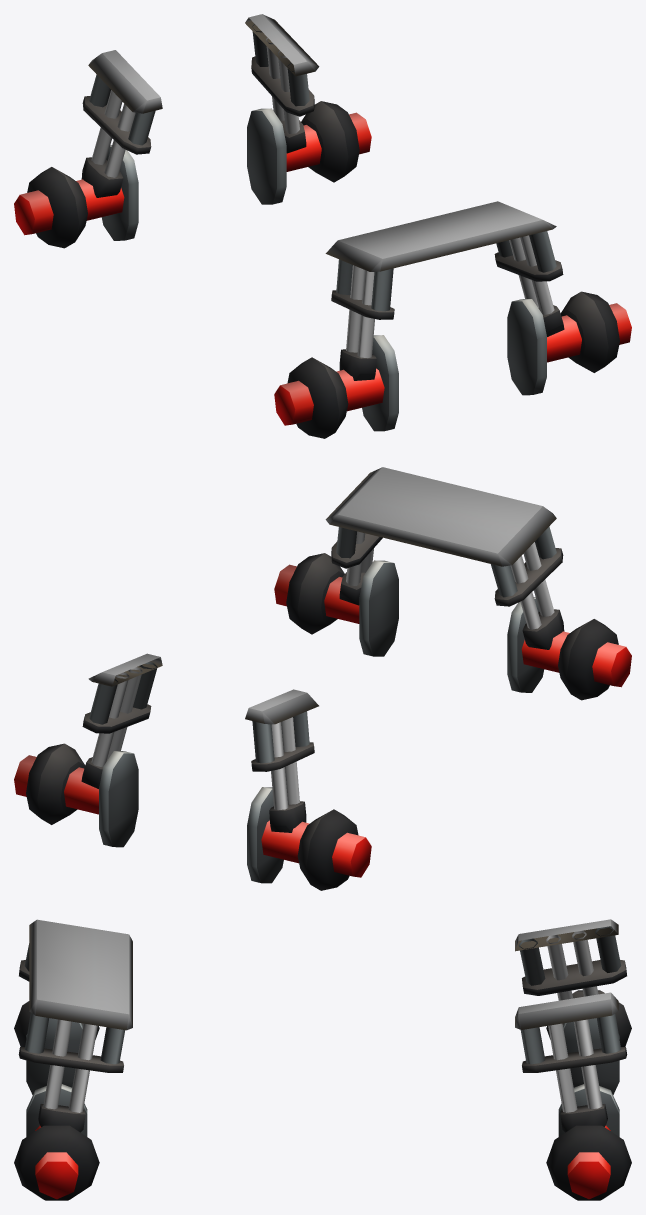
Rendered from RedTruckSuspensions.fbx.
The picture shows the model from 3 angles, top to bottom: view 1: azimuth 30°, elevation 25°; view 2: azimuth 150°, elevation 25°; view 3: azimuth 270°, elevation 25°; orthographic projection. The views are drawn at different scales.
Parts seen in each view (by area): view 1: Monster_Truck_12A_Suspension.F.R, Monster_Truck_12A_Suspension.F.L, Monster_Truck_12A_Suspension.R.R, Monster_Truck_12A_Suspension.R.L; view 2: Monster_Truck_12A_Suspension.F.R, Monster_Truck_12A_Suspension.F.L, Monster_Truck_12A_Suspension.R.R, Monster_Truck_12A_Suspension.R.L; view 3: Monster_Truck_12A_Suspension.F.L, Monster_Truck_12A_Suspension.R.L, Monster_Truck_12A_Suspension.R.R, Monster_Truck_12A_Suspension.F.R.
Boxes of the visible parts, box(x1,y1,x2,y2) form: Monster_Truck_12A_Suspension.F.R: box(274, 221, 466, 438); Monster_Truck_12A_Suspension.F.L: box(418, 201, 631, 395); Monster_Truck_12A_Suspension.R.R: box(14, 50, 162, 248); Monster_Truck_12A_Suspension.R.L: box(245, 14, 371, 204); Monster_Truck_12A_Suspension.F.R: box(416, 486, 631, 700); Monster_Truck_12A_Suspension.F.L: box(274, 467, 462, 656); Monster_Truck_12A_Suspension.R.R: box(245, 689, 371, 890); Monster_Truck_12A_Suspension.R.L: box(14, 653, 162, 847); Monster_Truck_12A_Suspension.F.L: box(14, 959, 132, 1200); Monster_Truck_12A_Suspension.R.L: box(515, 992, 631, 1200); Monster_Truck_12A_Suspension.R.R: box(515, 919, 631, 1094); Monster_Truck_12A_Suspension.F.R: box(14, 919, 132, 1094).
Bounding box in the file's own units: 3551 × 1816 × 5519.
